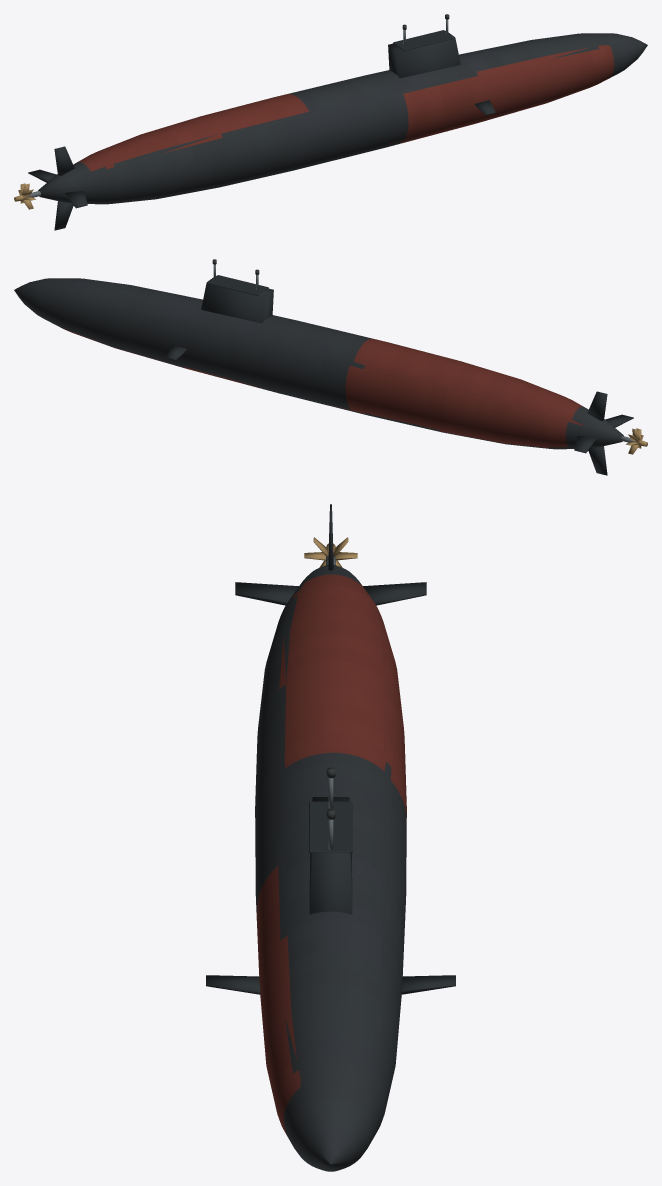
Rendered from RU_SSN_Victor_LOD2.fbx.
The picture shows the model from 3 angles, top to bottom: view 1: azimuth 30°, elevation 25°; view 2: azimuth 150°, elevation 25°; view 3: azimuth 270°, elevation 25°; orthographic projection. The views are drawn at different scales.
Parts seen in each view (by area): view 1: RU_SSN_Victor_LOD2; view 2: RU_SSN_Victor_LOD2; view 3: RU_SSN_Victor_LOD2.
Part boxes in pixels (<box>): RU_SSN_Victor_LOD2: <box>14,14,647,230</box>; RU_SSN_Victor_LOD2: <box>14,259,647,475</box>; RU_SSN_Victor_LOD2: <box>206,504,455,1171</box>.
Size of the model in its own units: 96.25 by 16.48 by 17.36.
Materials: 6 (1 with a texture image).
